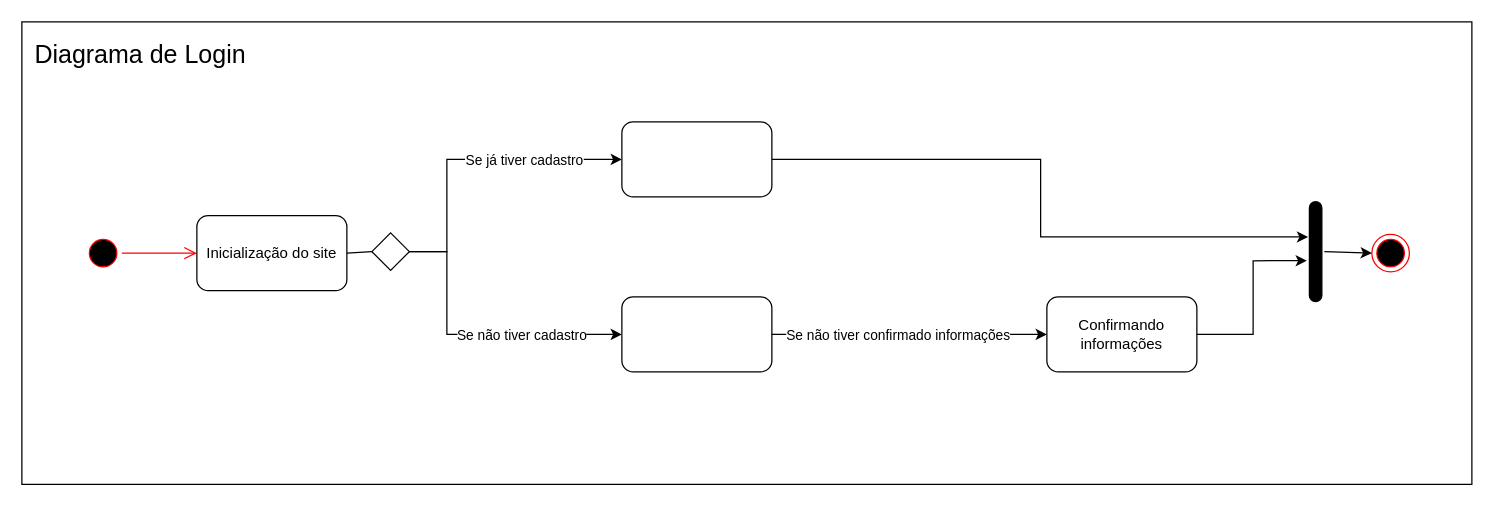
This 1494x506 diagram has some shape labels left out. The shapes that lost their labels are listed below. From the top down, each one's centre as x and y in pixels, then its label:
point (696, 159): Realizando Login
point (696, 334): Realizando cadastro
